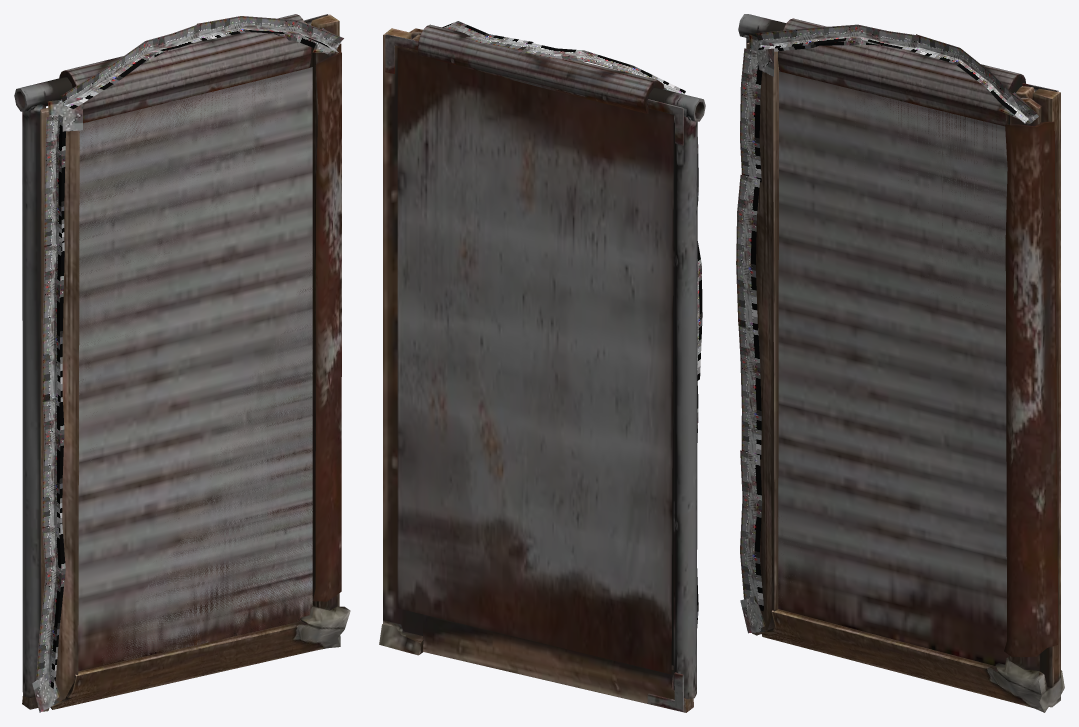
File: scrapmirror.standing.glb
3 views of the same model, side by side, from view 1: azimuth 30°, elevation 25°; view 2: azimuth 150°, elevation 25°; view 3: azimuth 330°, elevation 25° (orthographic).
Visible parts, largest first — view 1: mirror_03_standing_LOD0, mirror_03_standing_shutter; view 2: mirror_03_standing_LOD0; view 3: mirror_03_standing_LOD0, mirror_03_standing_shutter.
Part boxes in pixels (x1,y1,x2,y2): mirror_03_standing_LOD0: [14, 14, 350, 712]; mirror_03_standing_shutter: [79, 77, 312, 664]; mirror_03_standing_LOD0: [379, 21, 705, 712]; mirror_03_standing_LOD0: [736, 14, 1064, 712]; mirror_03_standing_shutter: [781, 89, 1005, 538].
Bounding box in the file's own units: 0.7776 × 1.51 × 0.1501.
2 materials, 2 textured.
